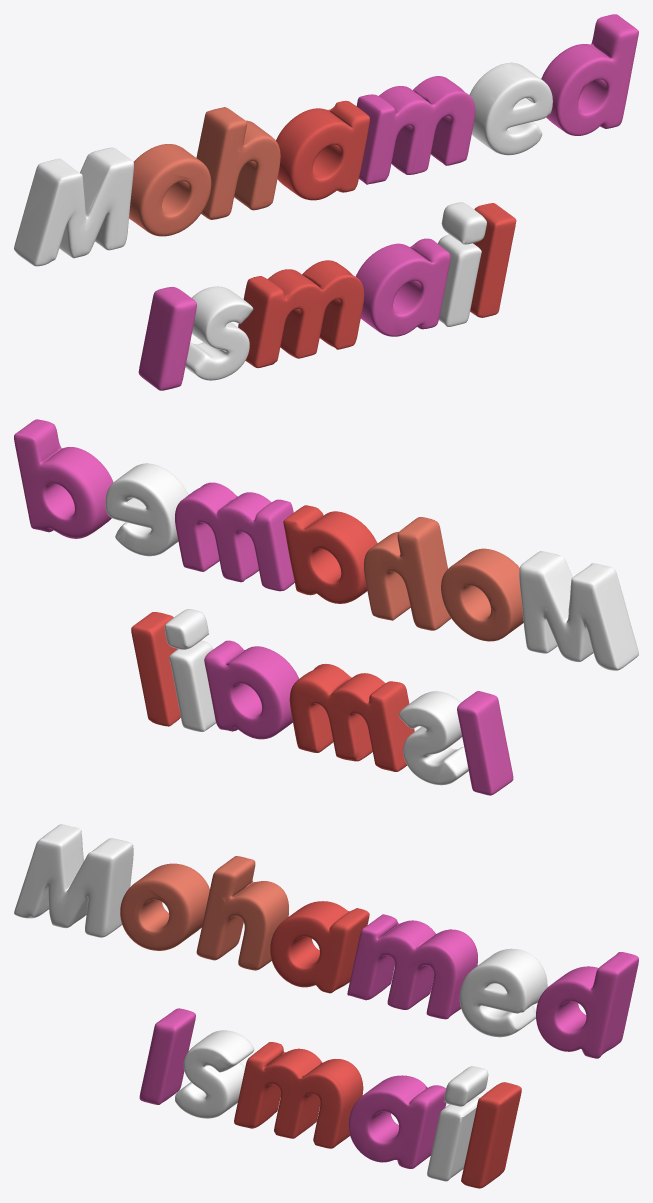
File: name.glb
3 renders of one model, top to bottom at view 1: azimuth 30°, elevation 25°; view 2: azimuth 150°, elevation 25°; view 3: azimuth 330°, elevation 25°, orthographic.
Parts seen in each view (by area): view 1: Retopo_Text.002; view 2: Retopo_Text.002; view 3: Retopo_Text.002.
Boxes of the visible parts, x1,y1,x2,y2 form: Retopo_Text.002: (14,14,638,390); Retopo_Text.002: (14,419,638,795); Retopo_Text.002: (14,824,638,1188).
Bounding box in the file's own units: 5.49 × 2.21 × 0.4769.
